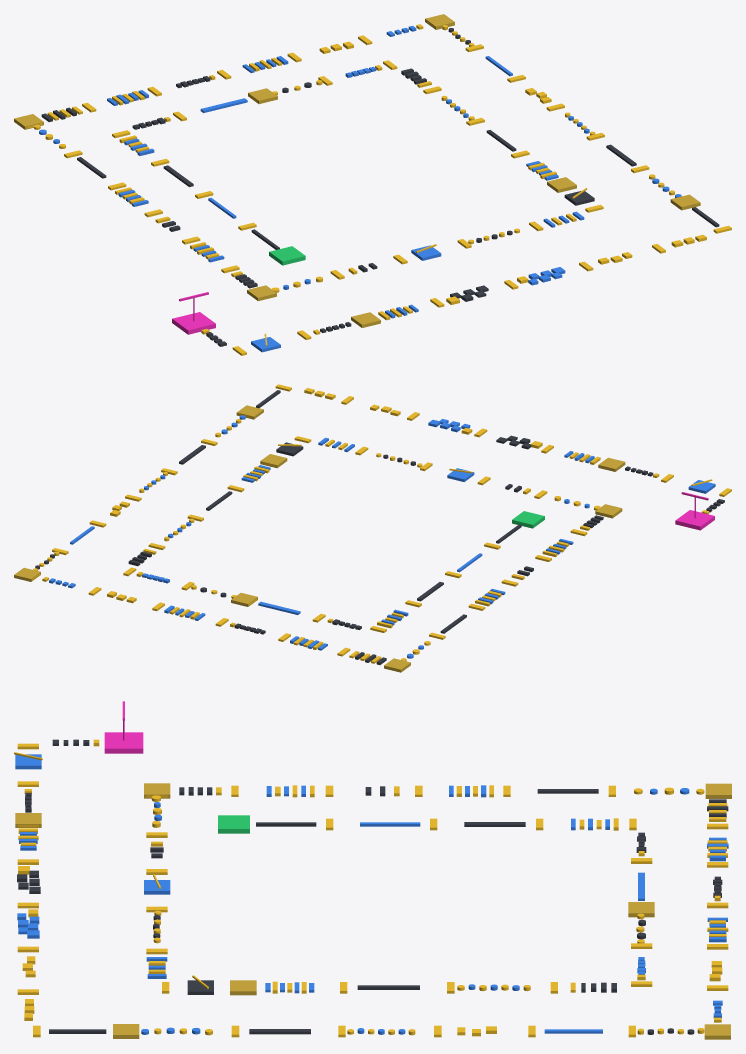
The model's file is 3d_obby_gen_example_levelriftlabs.glb.
3 views of the same model, one above another, from view 1: azimuth 30°, elevation 25°; view 2: azimuth 150°, elevation 25°; view 3: azimuth 270°, elevation 25° (orthographic). The views are drawn at different scales.
Parts seen in each view (by area): view 1: Object_505; view 2: Object_505; view 3: Object_505, Object_5.
Part boxes in pixels (bbox=[...]): Object_505: bbox=[172, 312, 215, 334]; Object_505: bbox=[675, 510, 714, 530]; Object_505: bbox=[104, 732, 143, 753]; Object_5: bbox=[218, 815, 249, 833].
Size of the model in its own units: 106 by 5.8 by 106.
